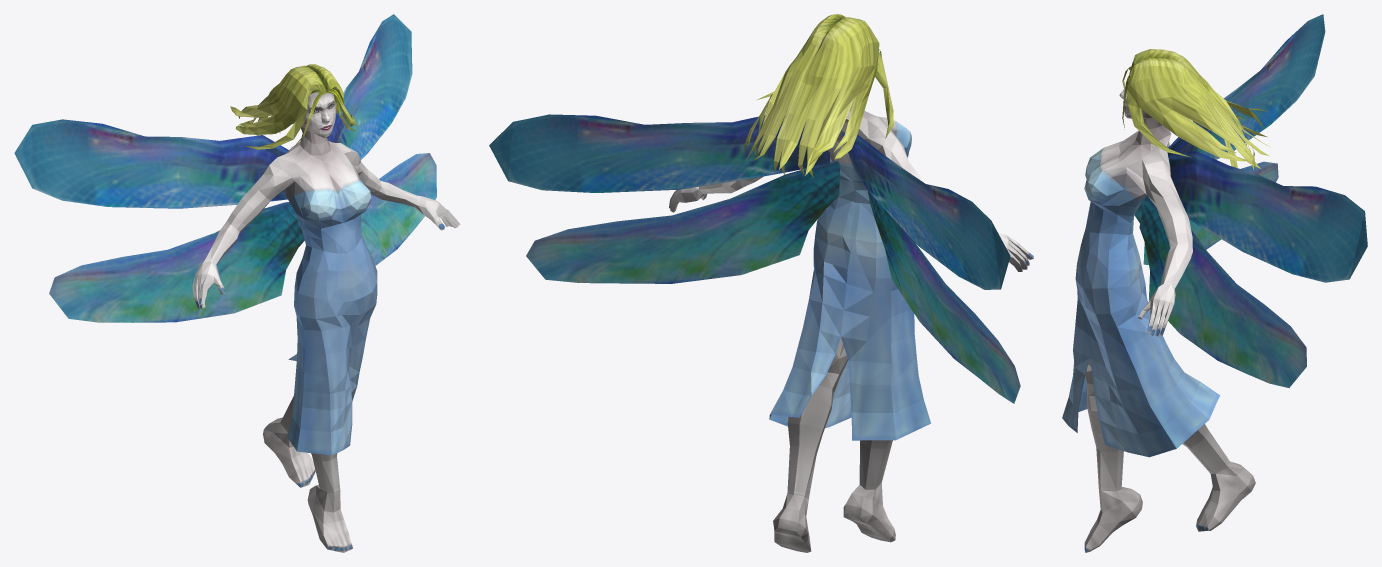
File: Sylph.fbx
3 views of the same model, side by side, from view 1: azimuth 30°, elevation 25°; view 2: azimuth 150°, elevation 25°; view 3: azimuth 270°, elevation 25° (orthographic). The views are drawn at different scales.
Visible parts, largest first — view 1: Hair, Body; view 2: Hair, Body; view 3: Hair, Body.
Boxes of the visible parts, x1,y1,x2,y2 form: Hair: [14, 14, 436, 322]; Body: [192, 91, 460, 552]; Hair: [489, 14, 1020, 403]; Body: [669, 99, 1033, 552]; Hair: [1122, 14, 1367, 387]; Body: [1062, 72, 1255, 552].
Size of the model in its own units: 1394 by 1466 by 818.
Materials: 2 (2 with a texture image).
